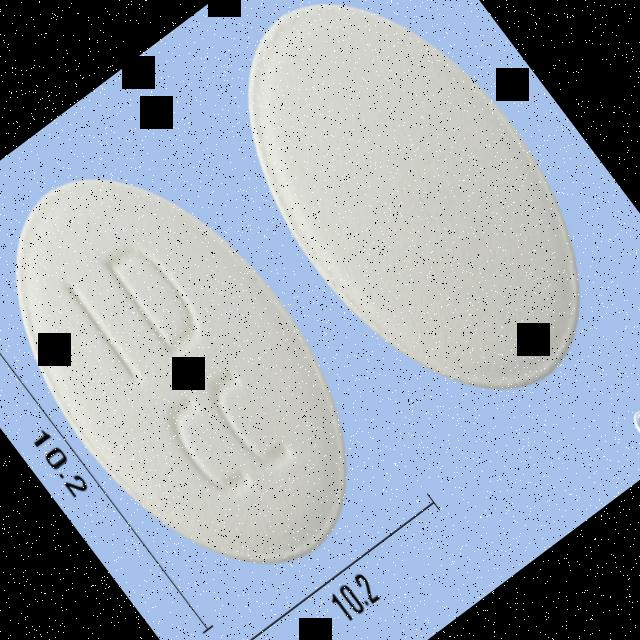Cycin: (0, 116, 411, 621)
